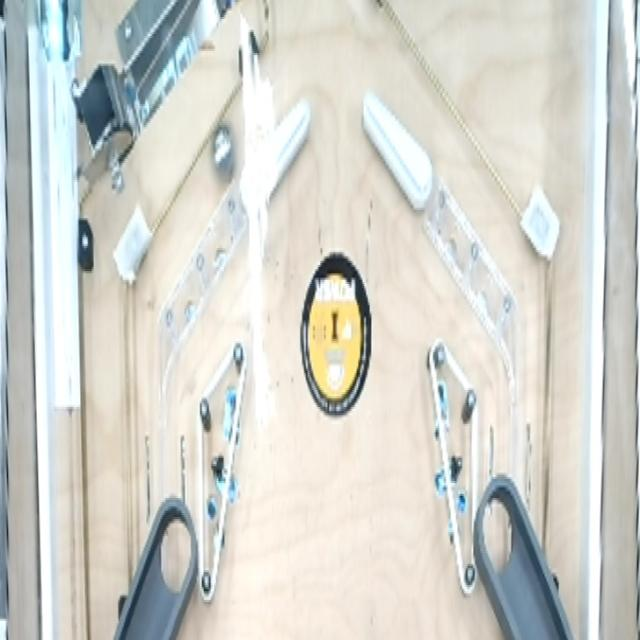ball: (207, 122, 240, 180)
flipper-left: (363, 87, 431, 225)
flipper-right: (238, 94, 309, 225)
